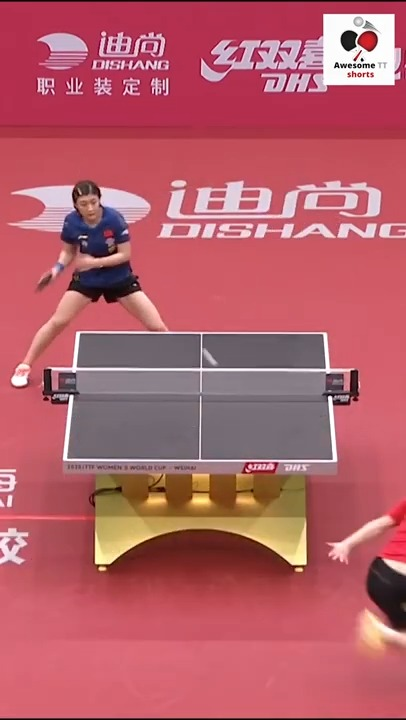Ball: (202, 348, 218, 368)
